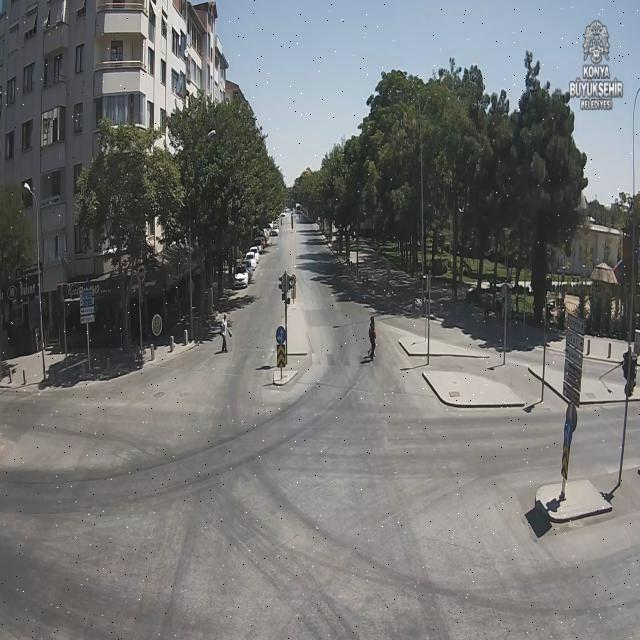Car: (236, 264, 250, 290), (246, 244, 264, 261), (253, 235, 266, 251), (244, 250, 256, 266), (261, 226, 274, 240), (271, 224, 283, 238)
